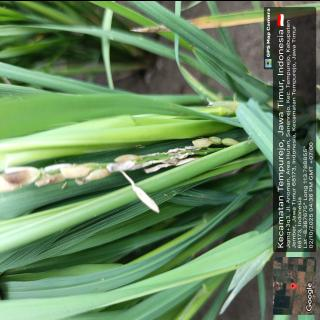Busuk-Bulir: (5, 162, 44, 190), (36, 172, 62, 194), (106, 158, 140, 172)
